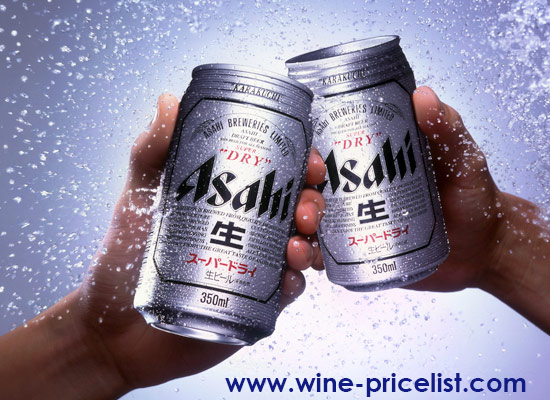can: (129, 61, 315, 349), (283, 33, 452, 295)
